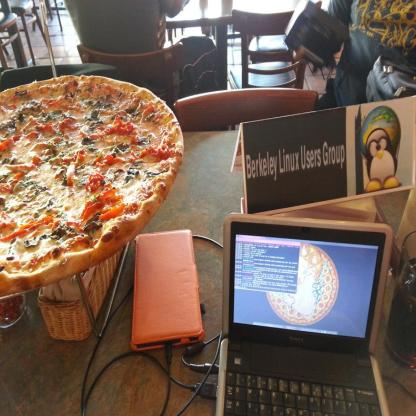board: (207, 210, 391, 416)
